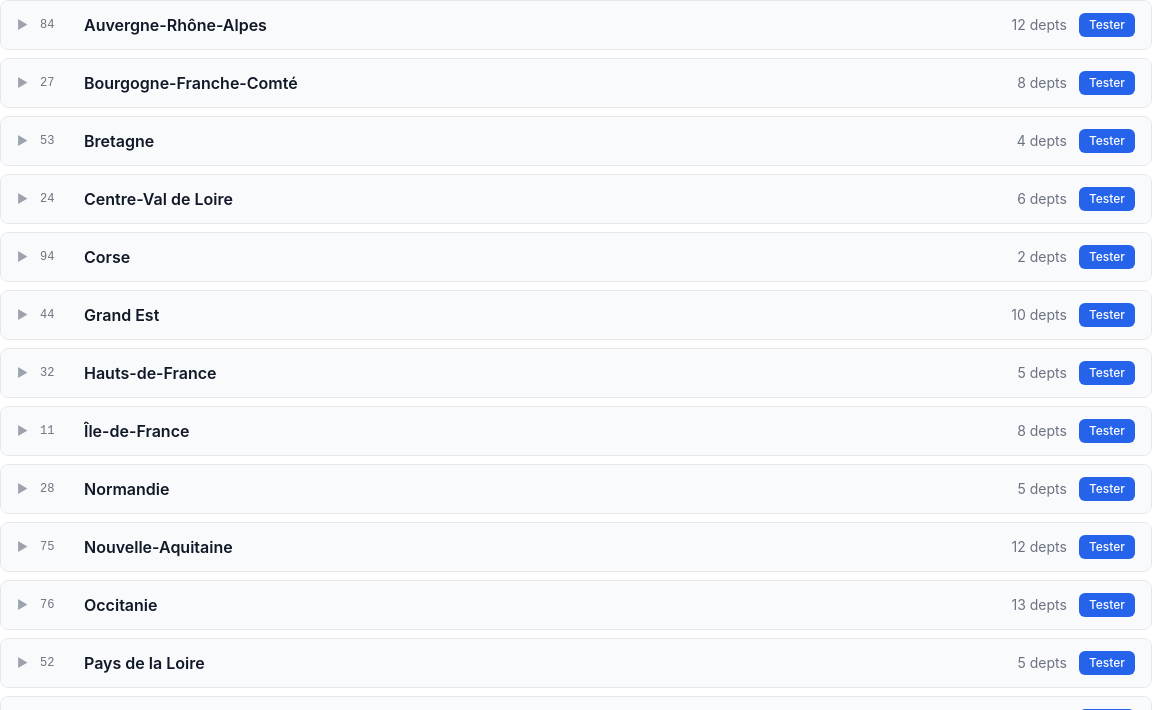
Test: AccordionRegions – interaction › ferme l'accordéon au deuxième clic
This screenshot has width=1152, height=710.
What coordinates should you click on to do the following:
click the button "▶ 11 Île-de-France"
I would click on:
 (137, 431)
Its box is top-left (17, 419), bottom-right (1005, 443).
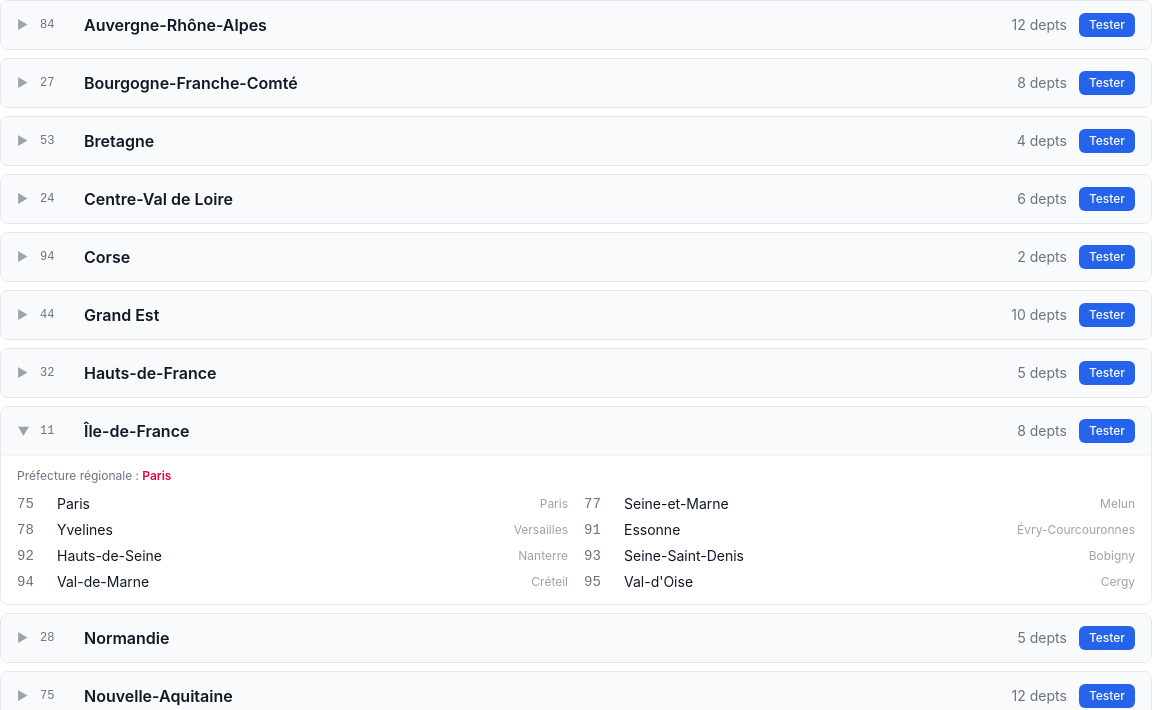
Result: the button "▶ 11 Île-de-France" is expanded
What coordinates should you click on to do the following:
click the button "▶ 11 Île-de-France"
I would click on:
 (137, 431)
Its box is top-left (17, 419), bottom-right (1005, 443).
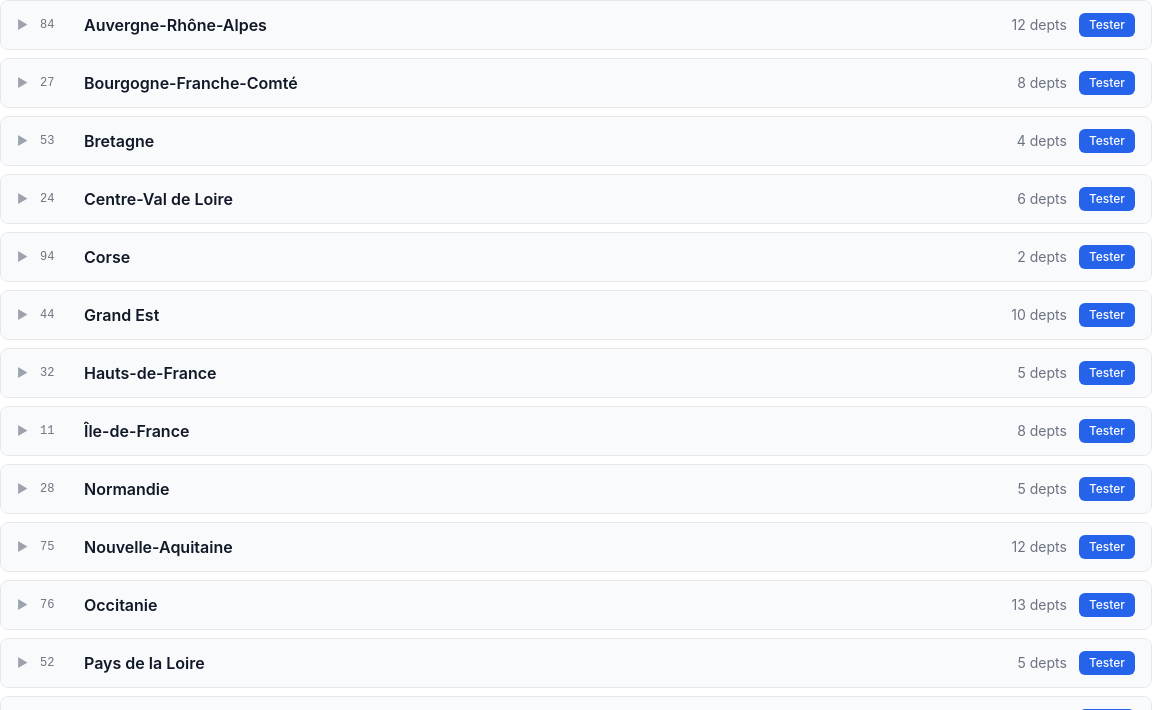
Result: the button "▶ 11 Île-de-France" is collapsed at top-left (17, 419), bottom-right (1005, 443)
Result: the text "Paris" is gone
Result: the text "Seine-et-Marne" is gone
